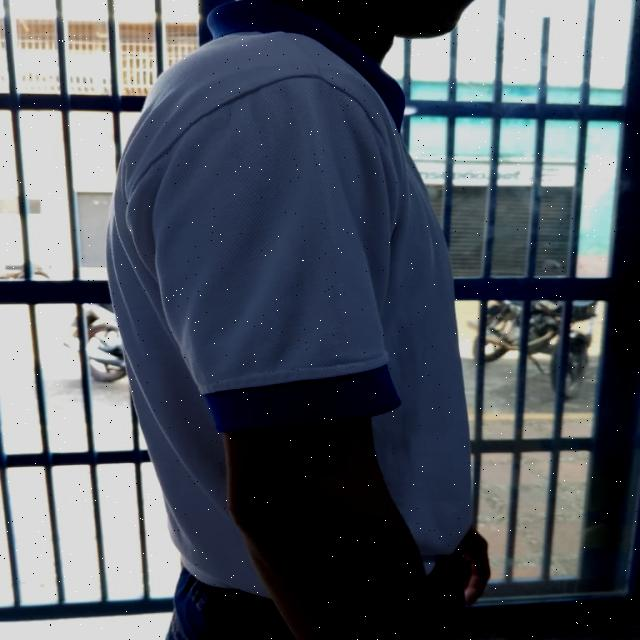uniforme_superior: (105, 2, 478, 596)
